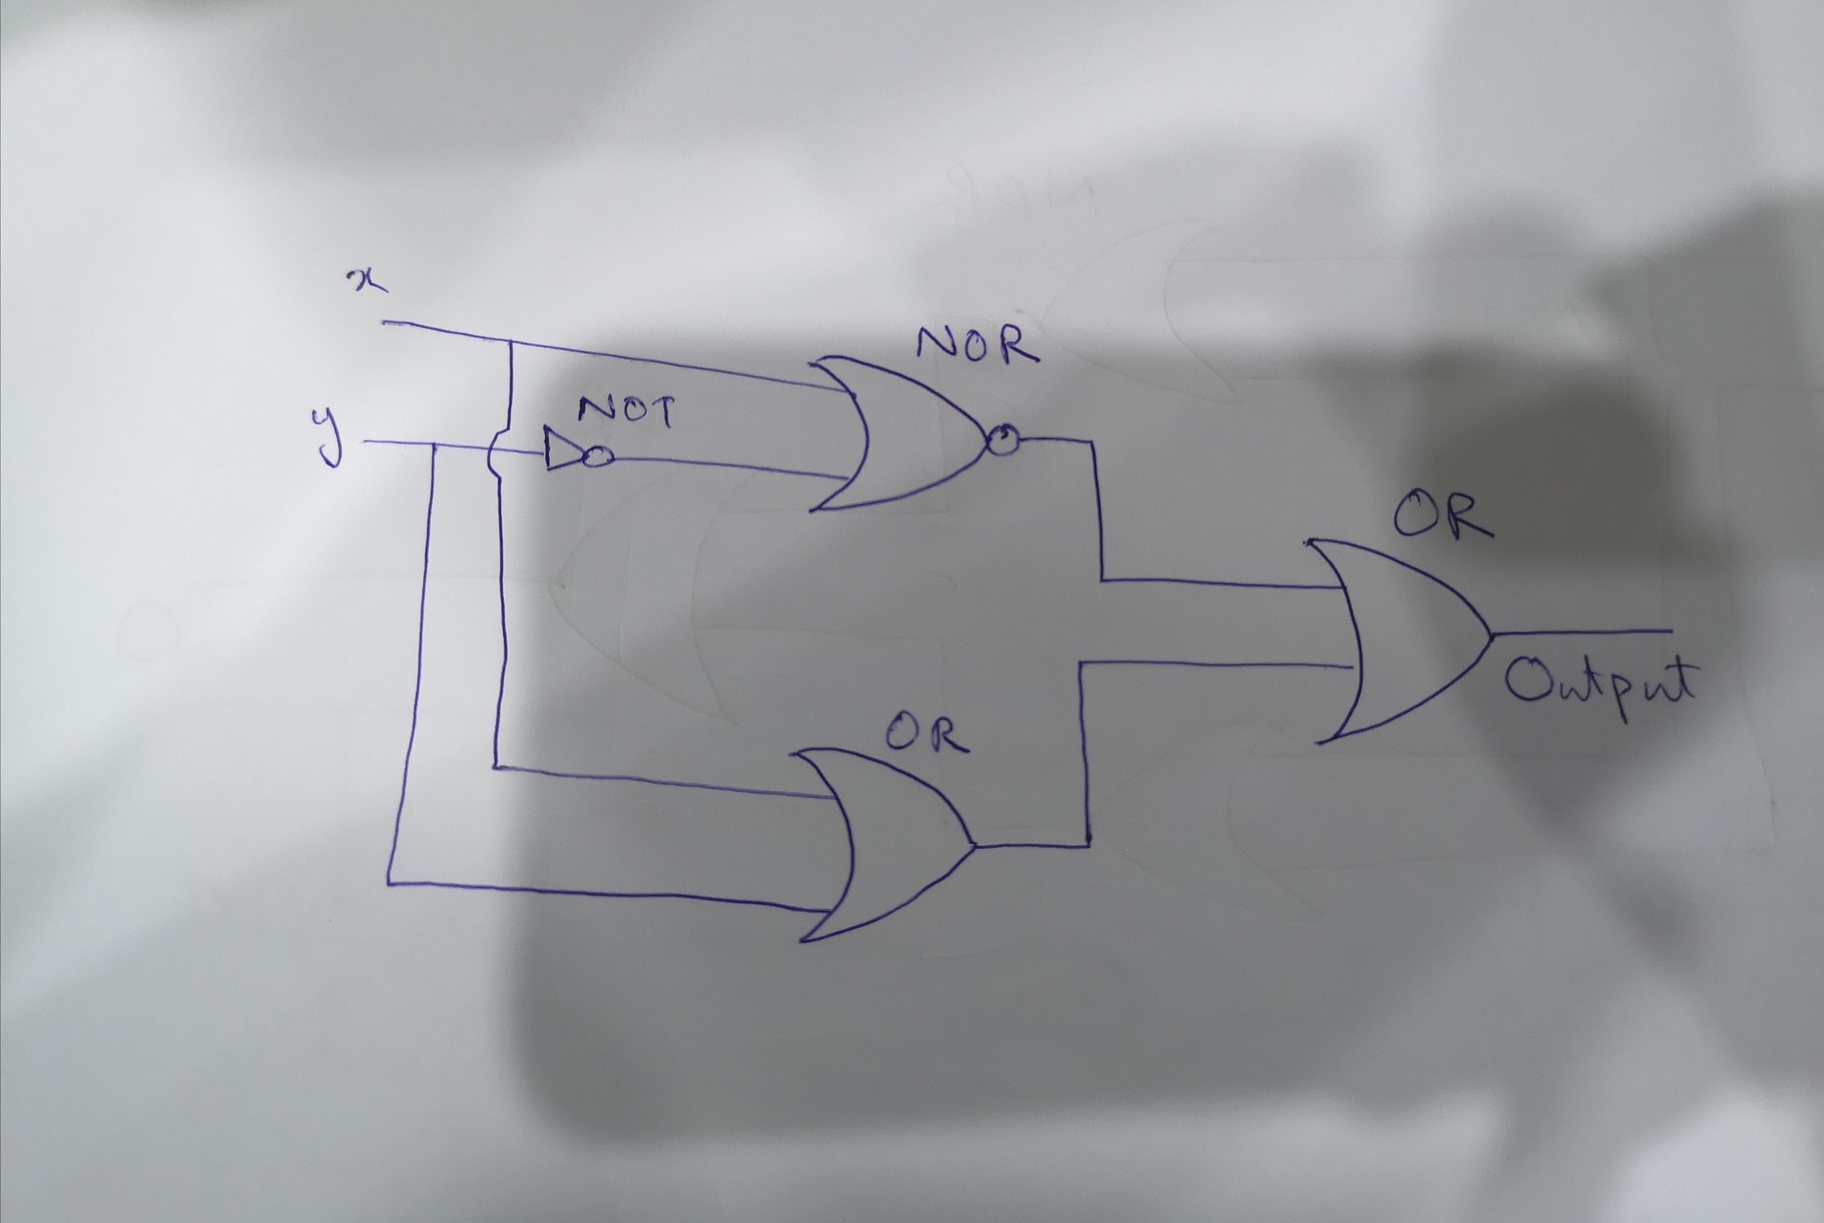crossover: (483, 422, 514, 480)
junction: (1074, 425, 1106, 459), (1072, 826, 1102, 859), (1090, 568, 1116, 592), (483, 756, 508, 779), (424, 435, 445, 457), (379, 872, 400, 894), (501, 330, 523, 349), (1072, 652, 1089, 673)
nor: (802, 349, 1035, 519)
not: (539, 420, 619, 476)
or: (1297, 531, 1506, 749), (780, 743, 988, 949)
terminal: (352, 431, 379, 455), (1662, 618, 1681, 640), (374, 313, 396, 330)
text: (1501, 644, 1707, 730), (910, 318, 1046, 373), (1389, 485, 1497, 549), (572, 389, 681, 437), (879, 708, 971, 759), (310, 404, 347, 470), (342, 263, 389, 296)
